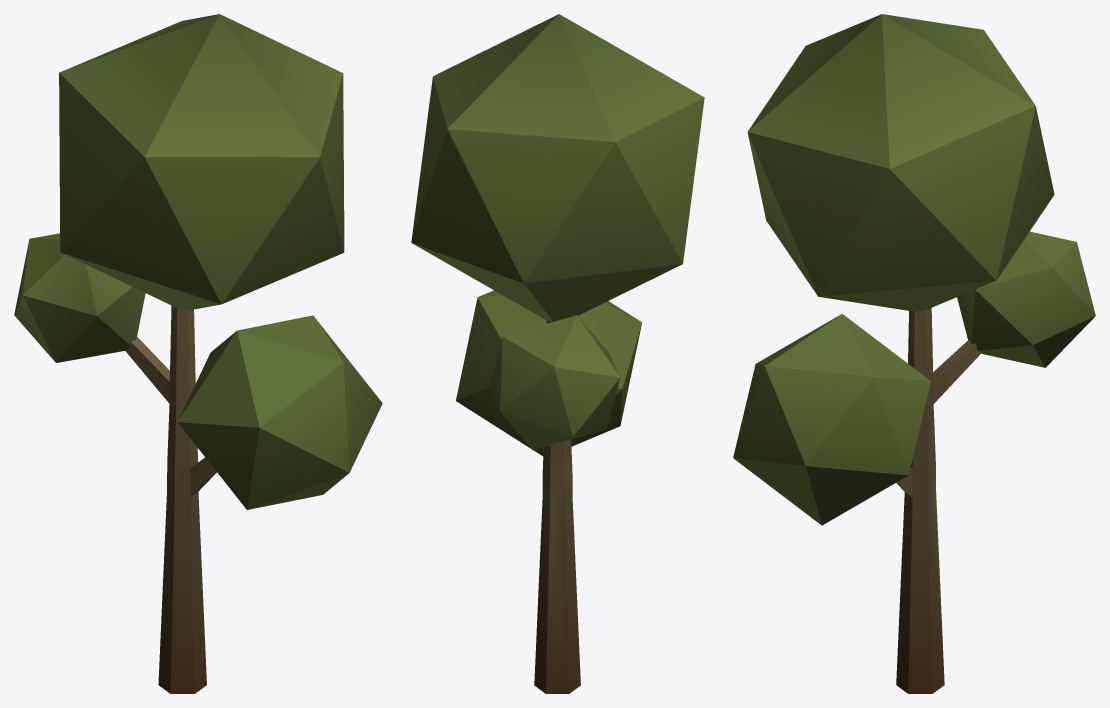
File: GEO_Tree_000.glb
3 views of the same model, side by side, from view 1: azimuth 30°, elevation 25°; view 2: azimuth 150°, elevation 25°; view 3: azimuth 270°, elevation 25° (orthographic). The views are drawn at different scales.
Visible parts, largest first — view 1: GEO.Tree.000; view 2: GEO.Tree.000; view 3: GEO.Tree.000.
Part boxes in pixels (x1=…): GEO.Tree.000: x1=14, y1=14, x2=382, y2=693; GEO.Tree.000: x1=411, y1=14, x2=704, y2=693; GEO.Tree.000: x1=733, y1=14, x2=1095, y2=693.
Size of the model in its own units: 1.62 by 3.89 by 1.88.
